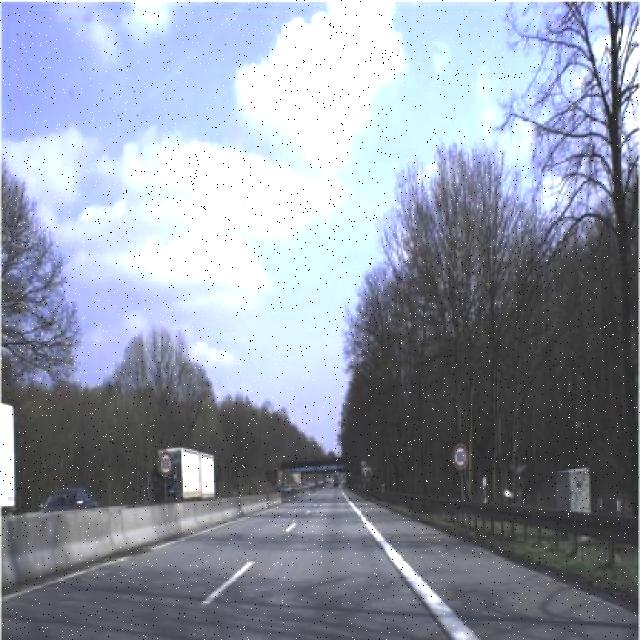Ograniczenie predkosci do 100: (451, 442, 469, 472), (156, 450, 173, 481)
